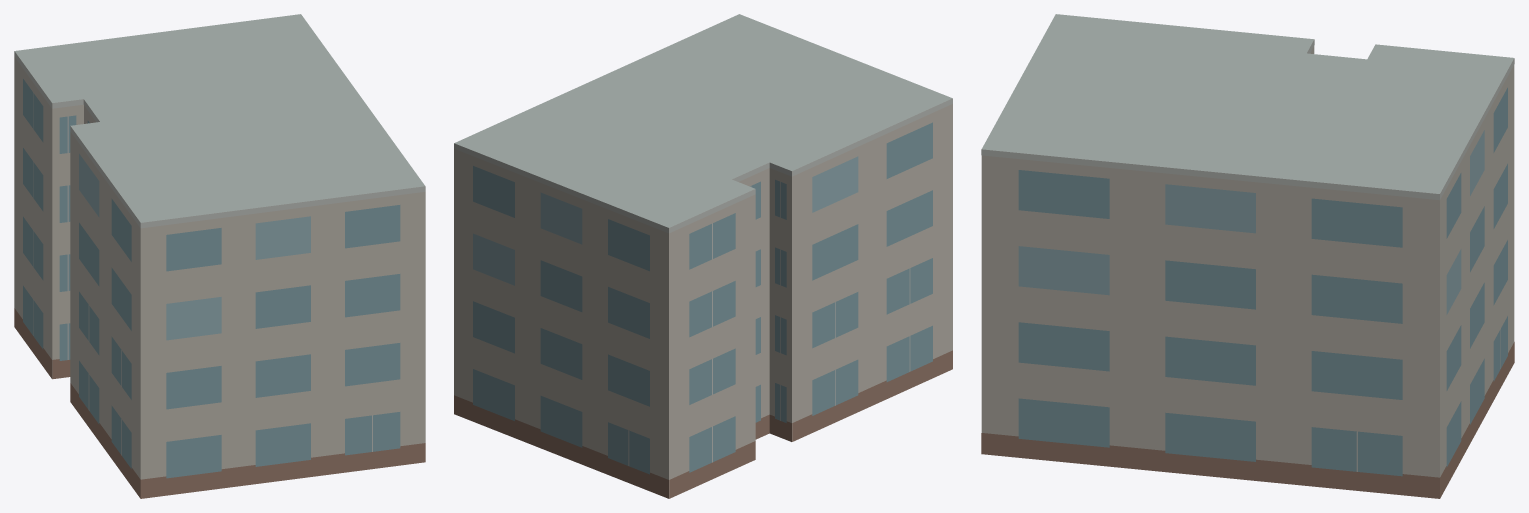
Rendered from residential-8e70af57-4568-4053-b398-5a4bb25f46fa.glb.
3 renders of one model, left to right at view 1: azimuth 30°, elevation 25°; view 2: azimuth 150°, elevation 25°; view 3: azimuth 270°, elevation 25°, orthographic. The views are drawn at different scales.
Visible parts, largest first — view 1: residential-8e70af57-4568-4053-b398-5a4bb25f46fa.tmp; view 2: residential-8e70af57-4568-4053-b398-5a4bb25f46fa.tmp; view 3: residential-8e70af57-4568-4053-b398-5a4bb25f46fa.tmp.
Boxes of the visible parts, left/top/right/bottom form: residential-8e70af57-4568-4053-b398-5a4bb25f46fa.tmp: left=14, top=14, right=425, bottom=498; residential-8e70af57-4568-4053-b398-5a4bb25f46fa.tmp: left=454, top=14, right=952, bottom=498; residential-8e70af57-4568-4053-b398-5a4bb25f46fa.tmp: left=981, top=14, right=1514, bottom=498.
Size of the model in its own units: 15.47 by 12.2 by 19.35.
